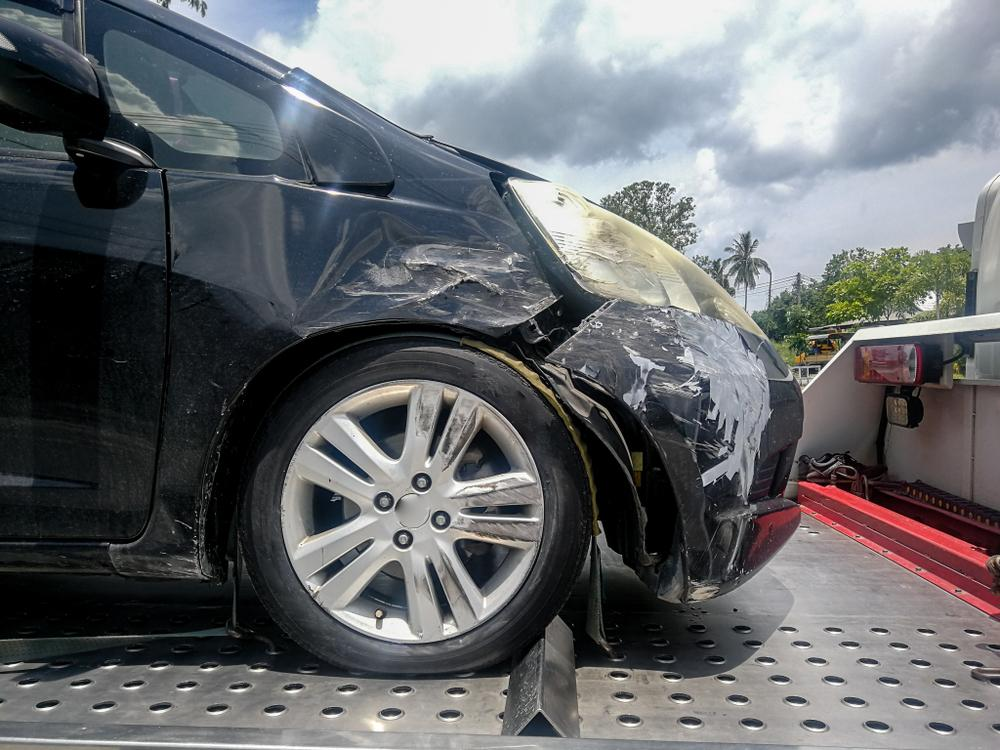scratch: (548, 298, 730, 472), (339, 233, 554, 326)
